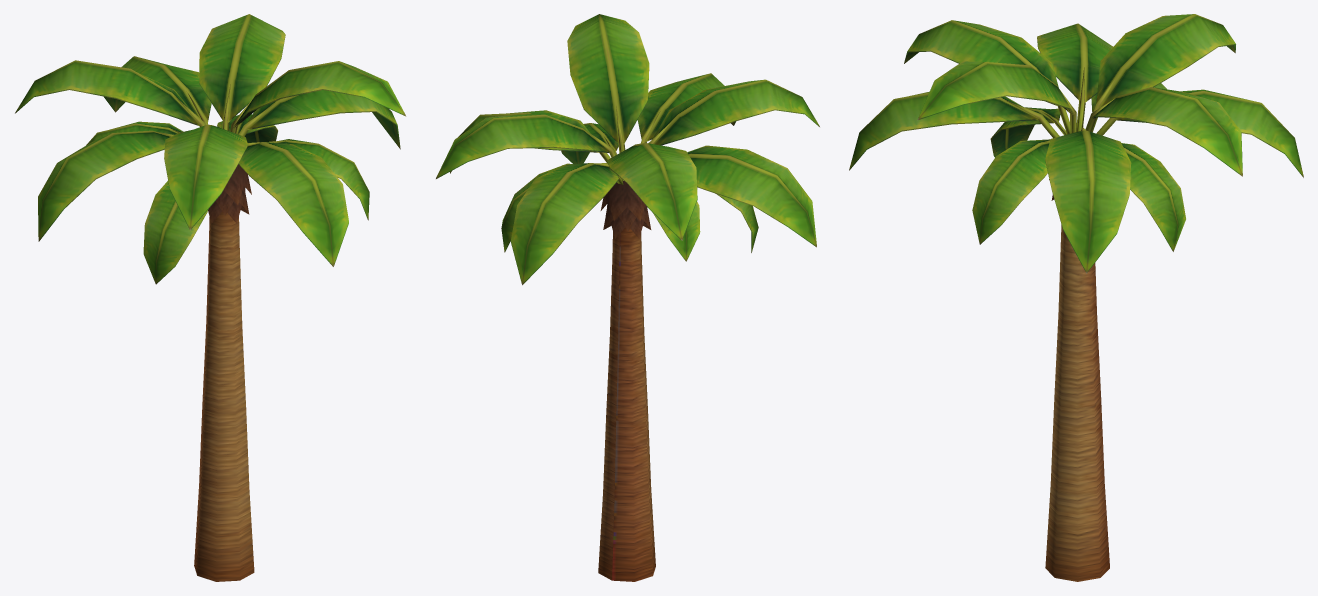
File: PalmTree_01.fbx
3 renders of one model, left to right at view 1: azimuth 30°, elevation 25°; view 2: azimuth 150°, elevation 25°; view 3: azimuth 270°, elevation 25°, orthographic. The views are drawn at different scales.
Visible parts, largest first — view 1: PalmTree_01; view 2: PalmTree_01; view 3: PalmTree_01.
Boxes of the visible parts, box(x1,y1,x2,y2) form: PalmTree_01: box(15, 14, 406, 581); PalmTree_01: box(436, 14, 819, 581); PalmTree_01: box(849, 14, 1303, 581).
Size of the model in its own units: 103 by 138 by 105.
